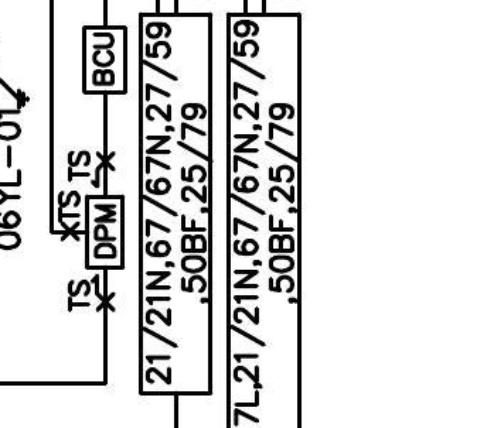BCU: (81, 24, 128, 96)
DPM: (84, 194, 125, 271)
